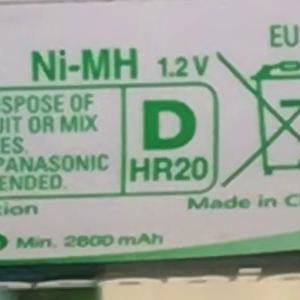HR20: (122, 148, 212, 190)
